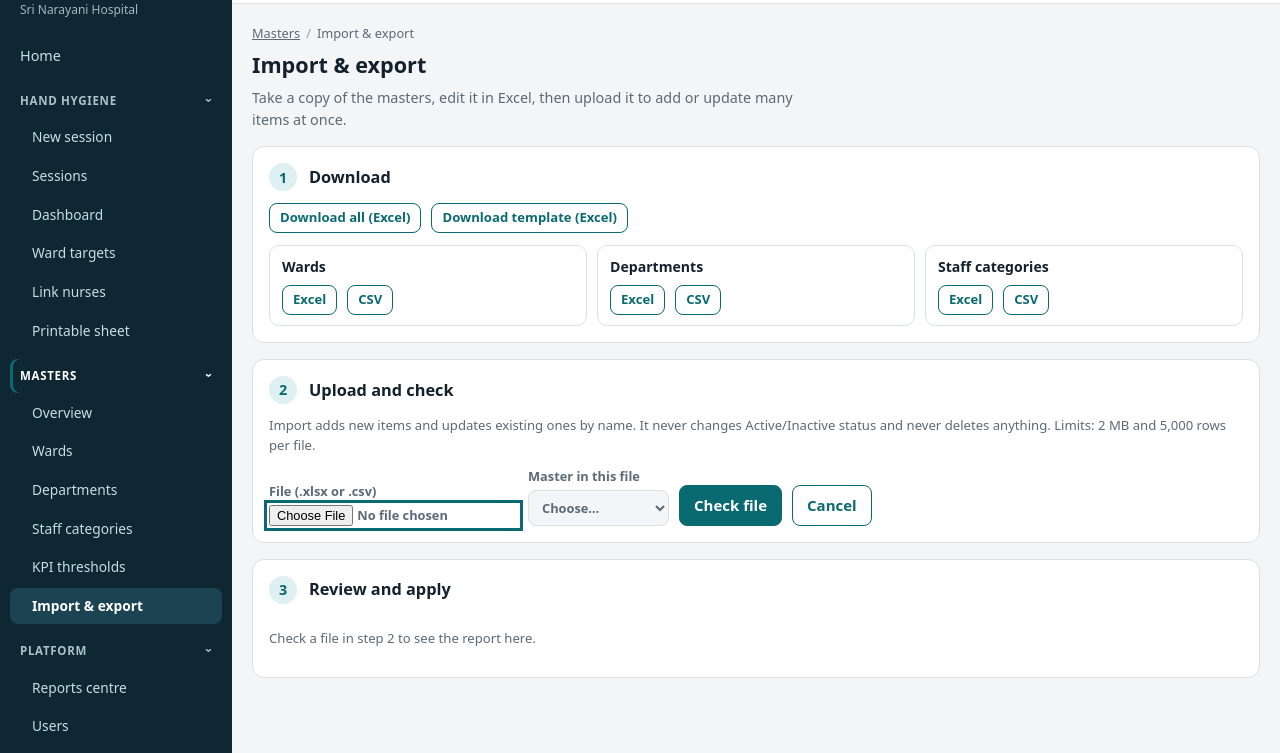
it: Import & export page › applies a clean file with dry_run=false and toasts
Earlier steps of the test are not shown.
Select "Wards" in the dropdown labelled "Master in this file" at (598, 508), box [528, 490, 669, 526]
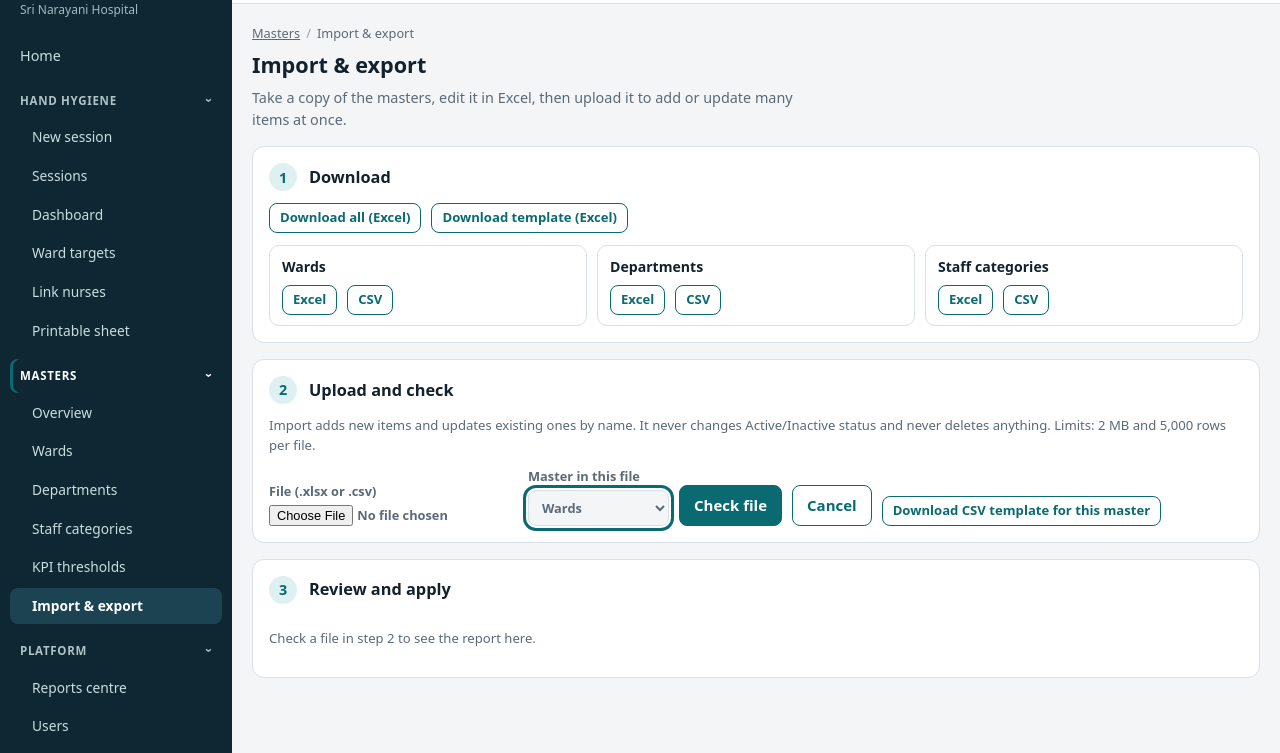
Click the button "Check file".
click(730, 505)  # box [679, 485, 782, 526]
(page scrolled)
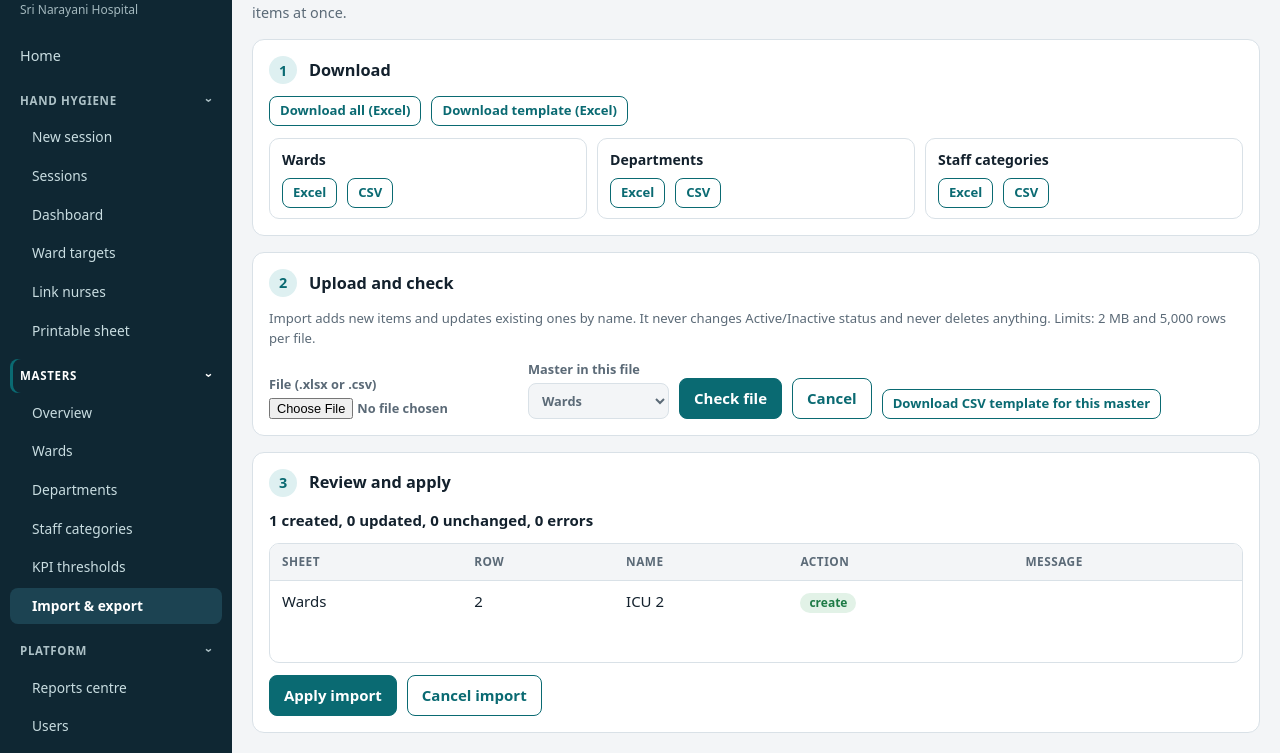
Now the button "Apply import" is enabled
Click the button "Apply import".
click(333, 695)  # box [269, 675, 397, 716]
(page scrolled)
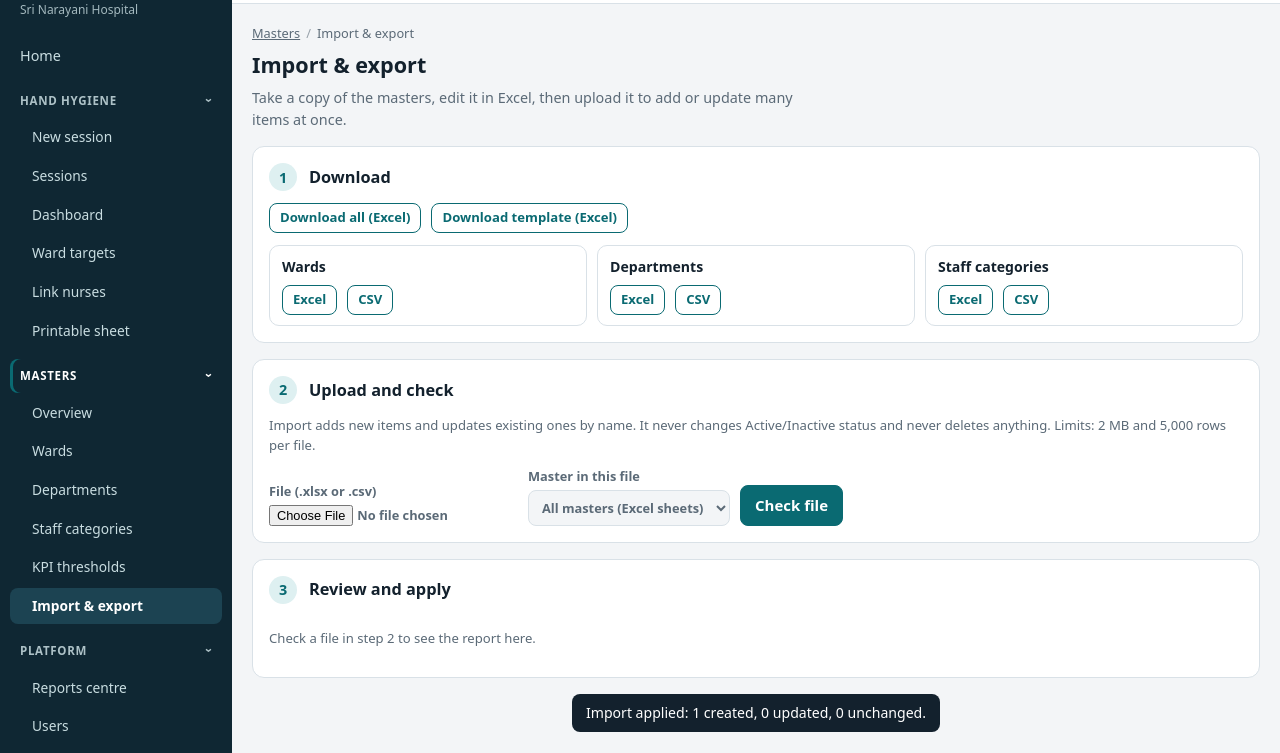
Now the text "Import applied: 1 created, 0 updated, 0 unchanged." is shown, box [572, 694, 940, 732]
